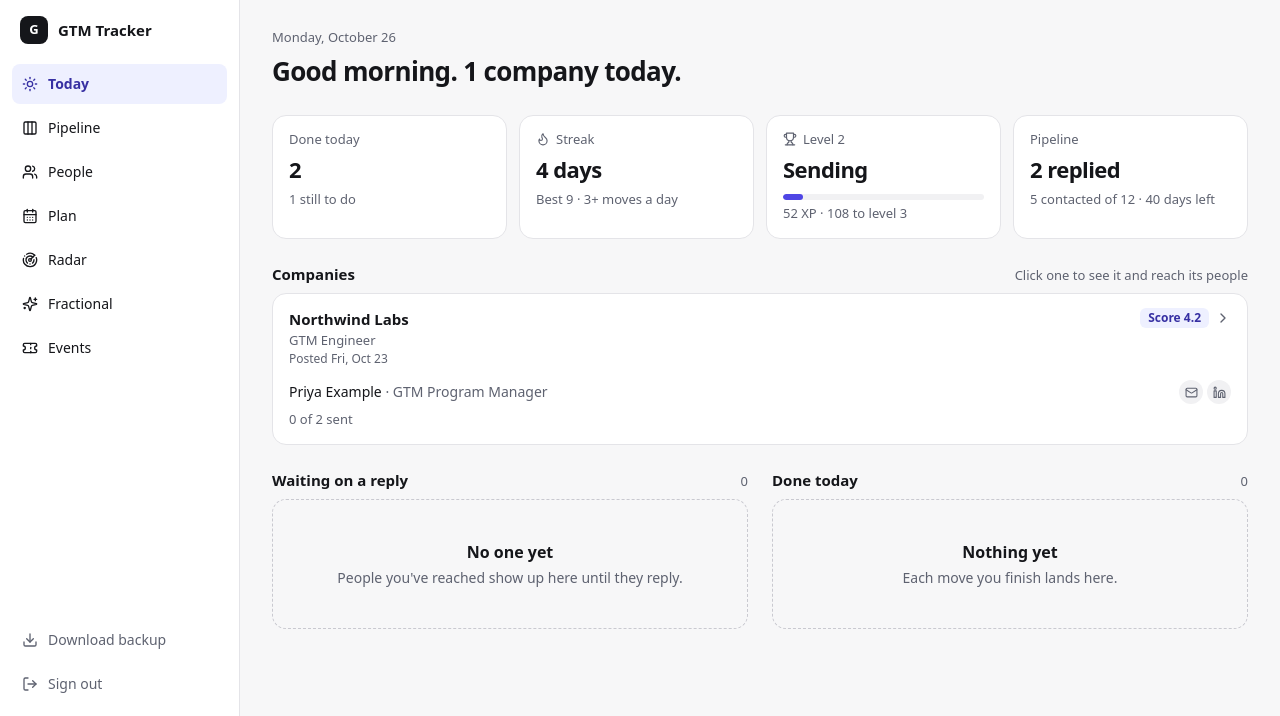
Test: Today › says why a change failed
Click the button "Northwind Labs" at x=349, y=319, box [273,294,1247,444]
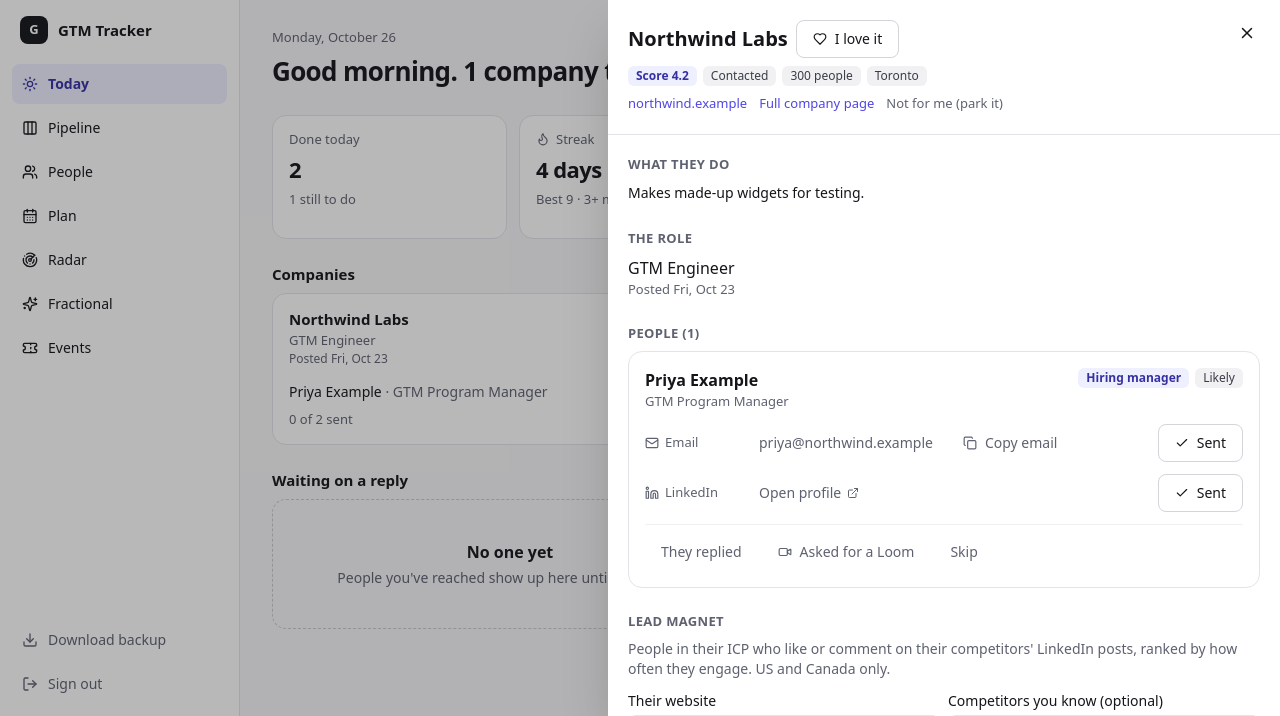
Click the button "Sent" in the row of "priya@northwind.example" at x=1200, y=443, box [1158,424,1243,462]
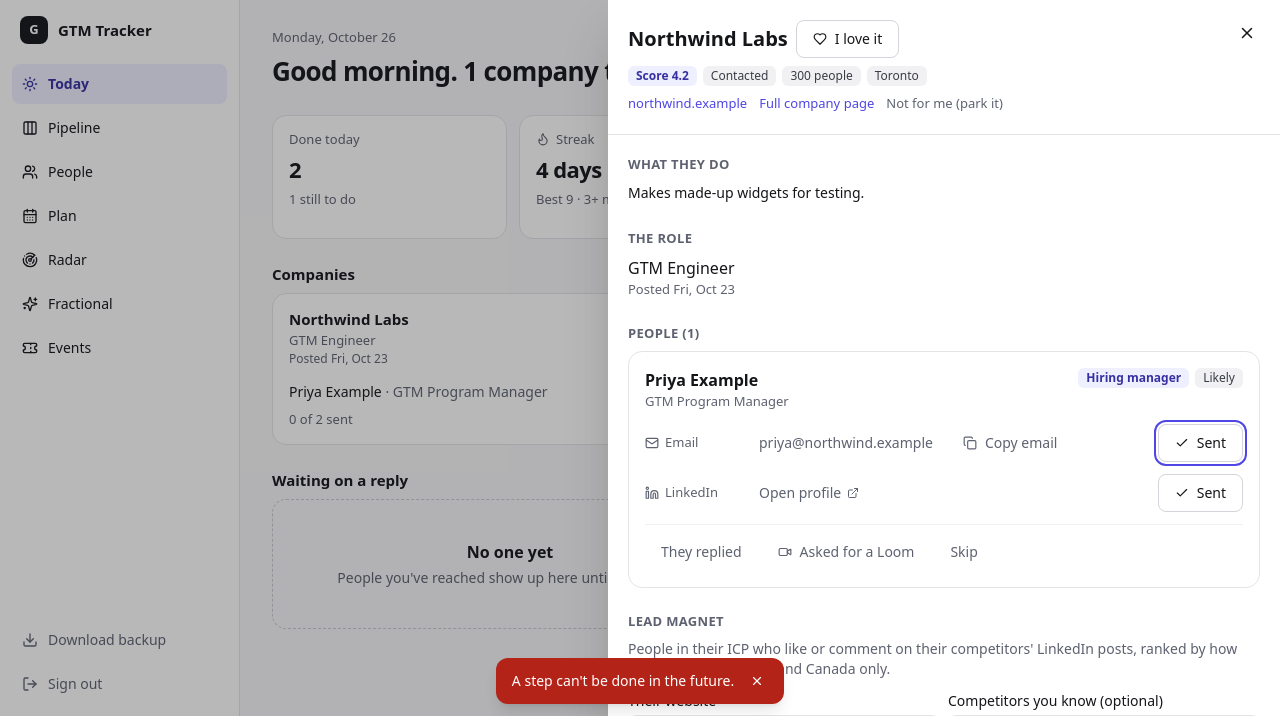
Expected: the message reads "A step can't be done in the future.", [512,671,734,690]
